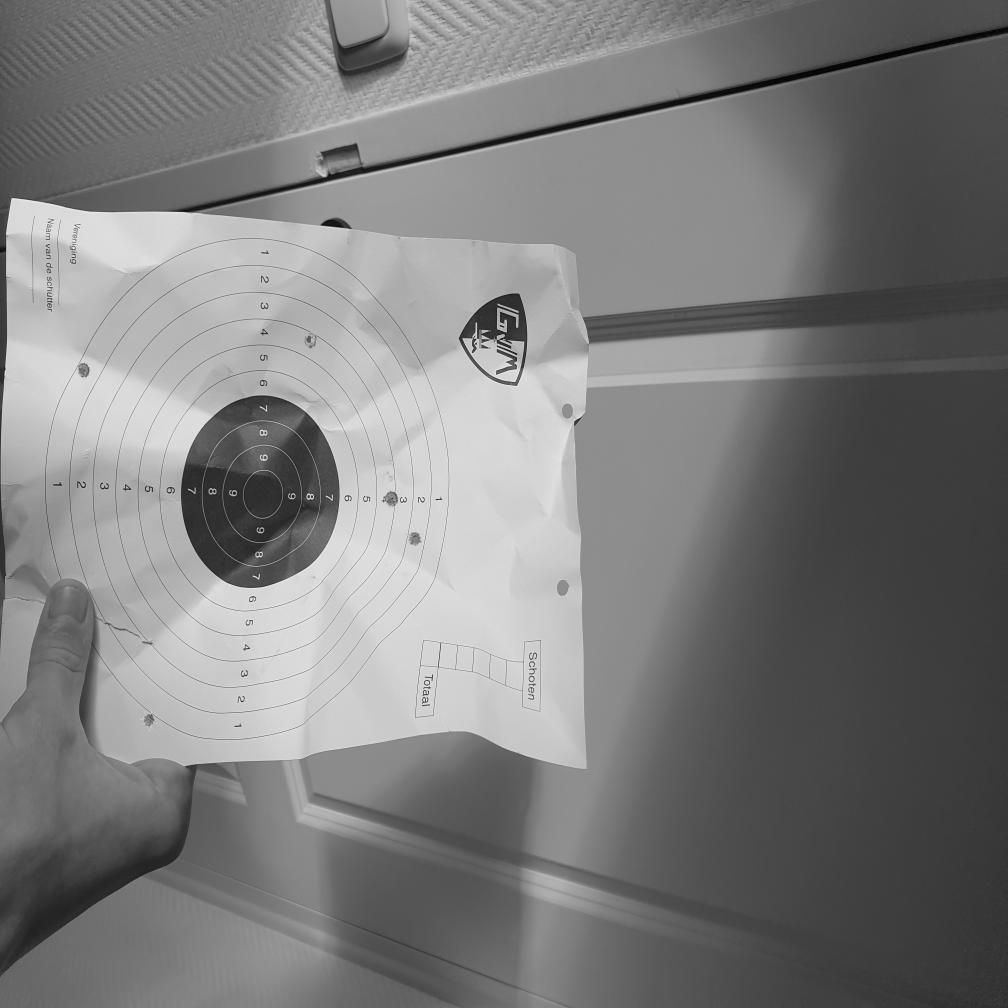1: (140, 710, 158, 733), (77, 363, 90, 378)
3: (405, 532, 422, 546)
4: (304, 332, 318, 349), (385, 491, 398, 507)
Target: (41, 238, 451, 749)
black_contour: (181, 396, 340, 589)
